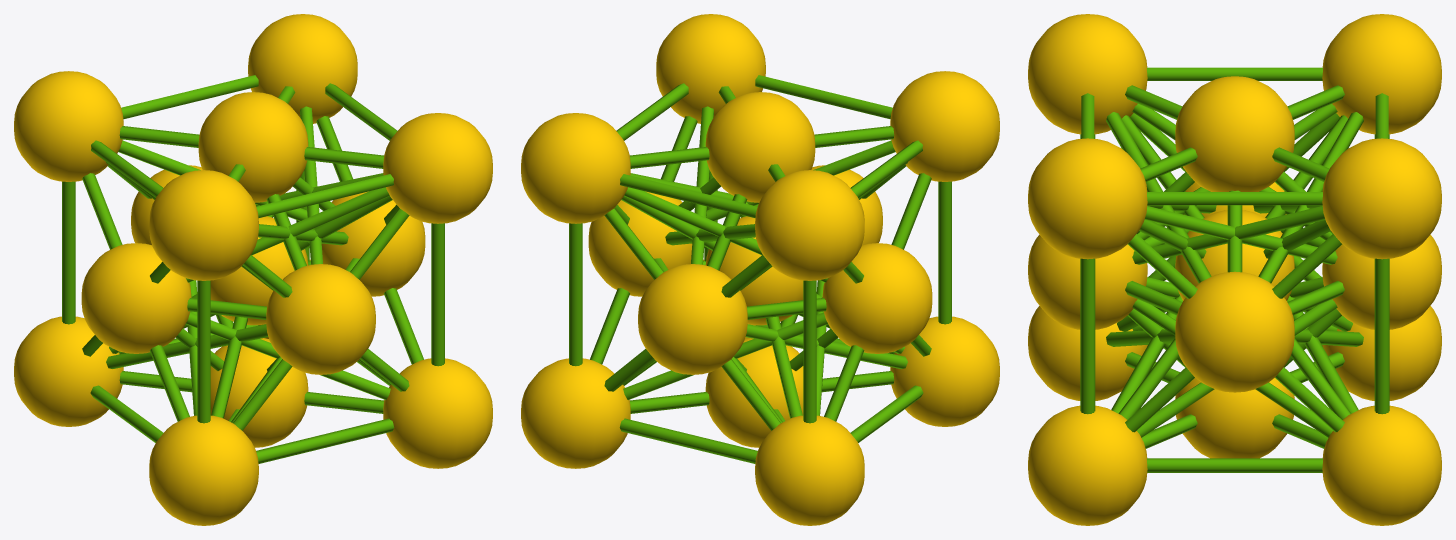
File: metatron.glb
3 views of the same model, side by side, from view 1: azimuth 30°, elevation 25°; view 2: azimuth 150°, elevation 25°; view 3: azimuth 270°, elevation 25° (orthographic). The views are drawn at different scales.
Bounding box in the file's own units: 6.35 × 6.35 × 6.33.
